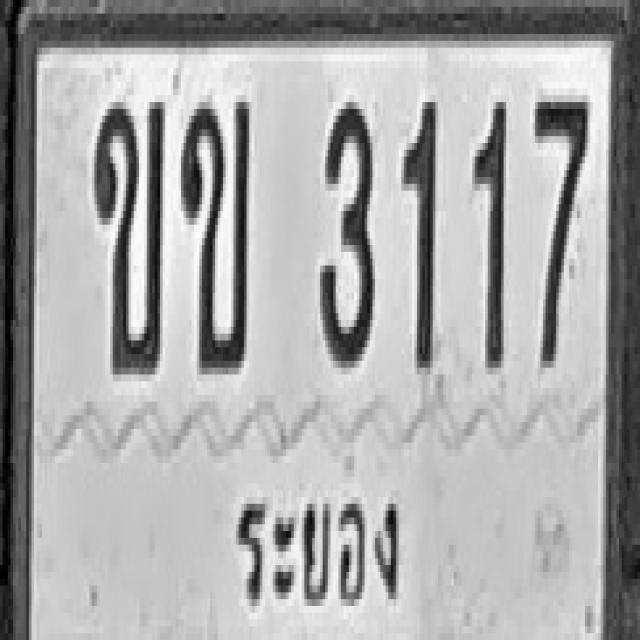1: (402, 92, 436, 371), (472, 95, 506, 368)
11KhorKhai: (93, 92, 164, 371), (181, 92, 249, 371)
3: (318, 92, 374, 364)
7: (532, 92, 588, 364)
Rayong: (226, 460, 406, 627)
